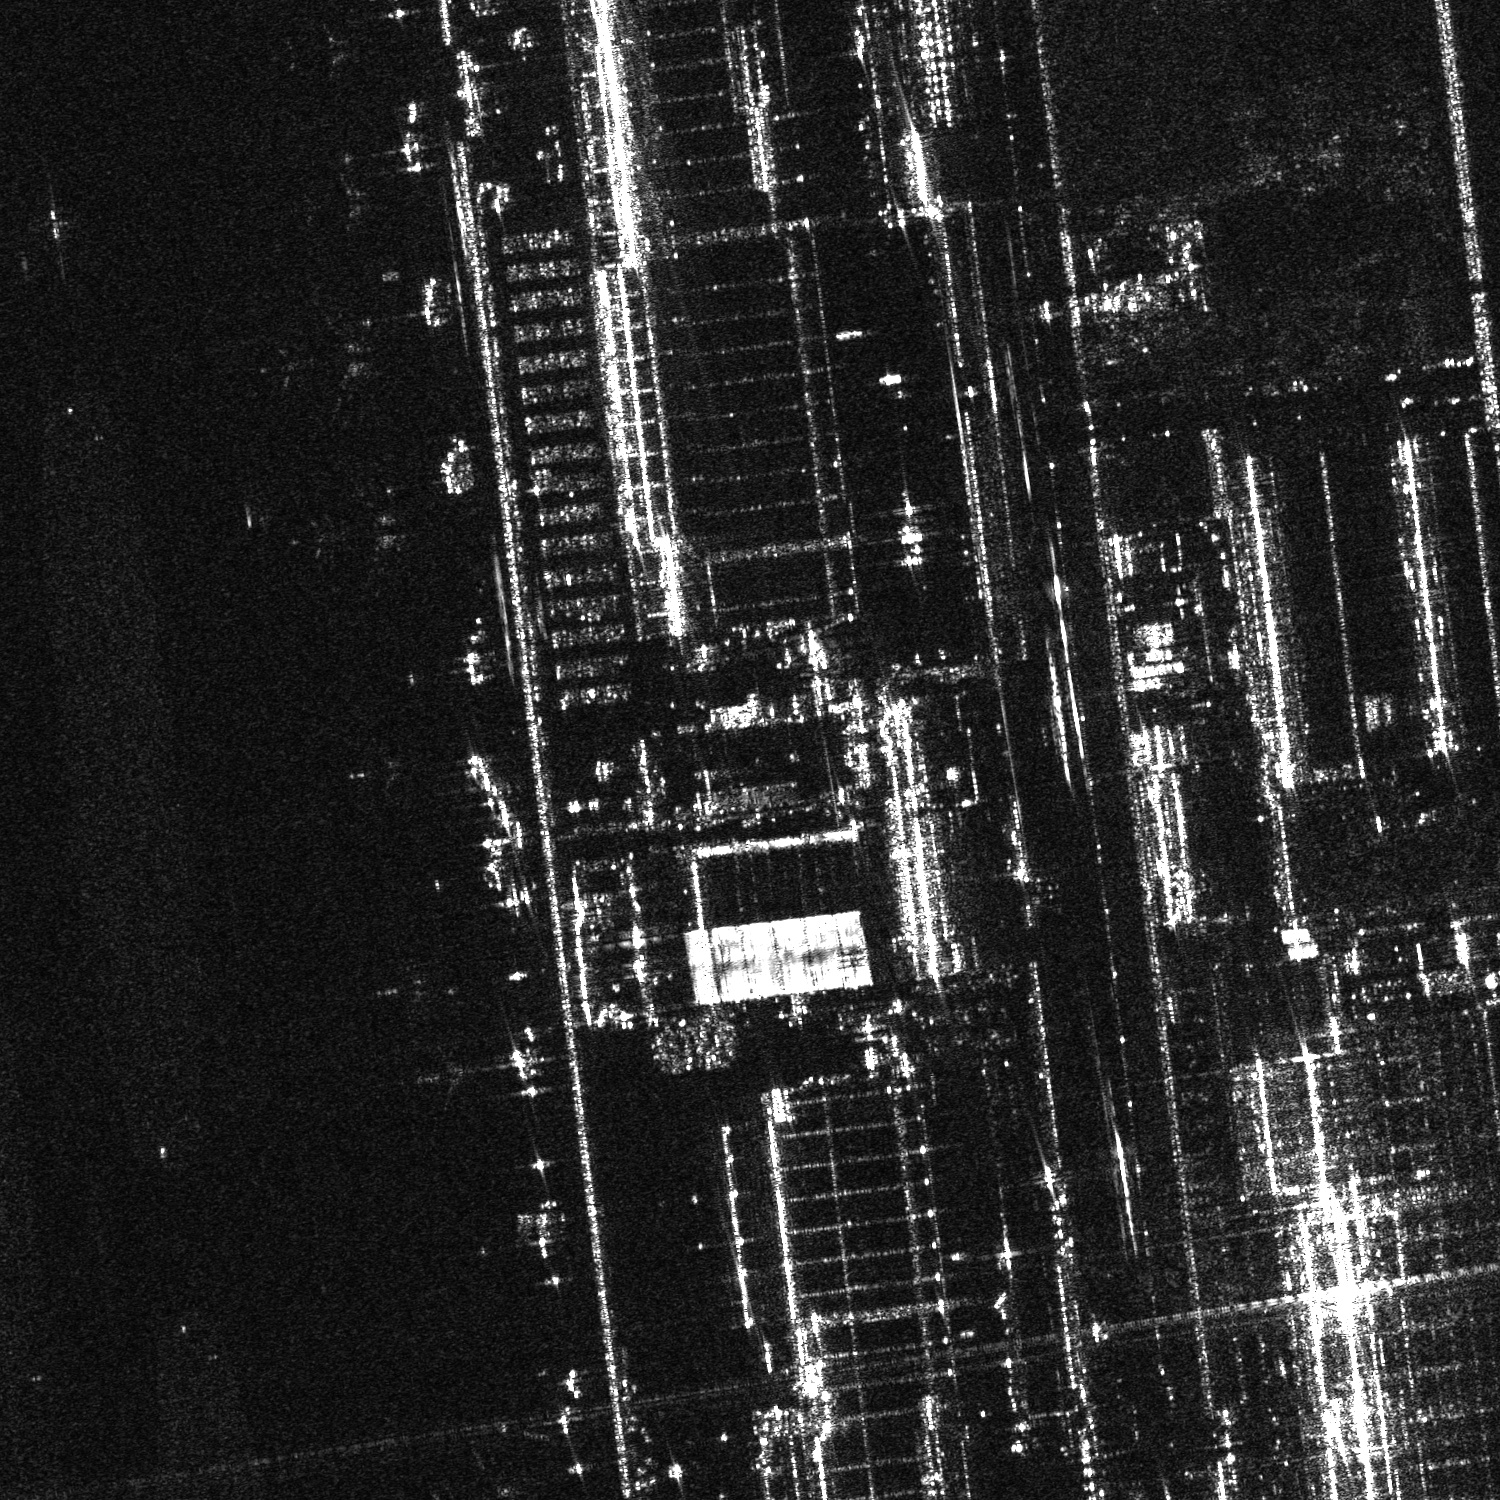A220: (401, 1038, 470, 1115)
Boeing787: (254, 302, 387, 427), (298, 481, 420, 589), (302, 159, 386, 232), (345, 739, 409, 799)
